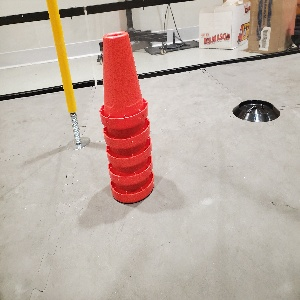Red_5: (90, 23, 165, 209)
